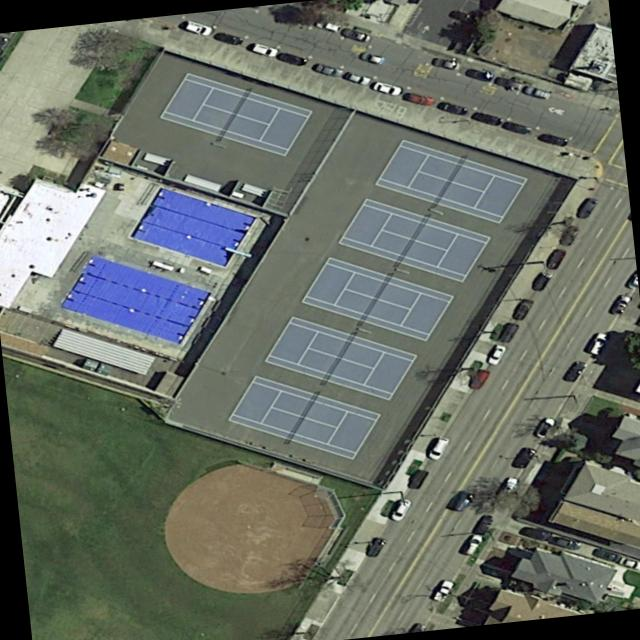large-vehicle: (495, 475, 521, 500), (531, 267, 556, 291), (512, 296, 537, 320), (513, 445, 538, 469), (523, 525, 557, 542), (497, 319, 521, 343), (212, 29, 245, 46), (471, 109, 504, 126), (576, 195, 600, 218), (544, 246, 568, 269), (559, 222, 582, 245), (467, 368, 491, 390), (464, 65, 495, 82), (406, 91, 436, 108), (454, 489, 477, 511), (501, 117, 532, 133), (364, 536, 387, 557), (539, 129, 571, 144), (440, 100, 470, 115), (408, 467, 429, 488)
small-vehicle: (427, 434, 452, 459), (389, 496, 414, 520), (563, 358, 589, 381), (181, 19, 215, 36), (372, 78, 404, 96), (432, 578, 456, 602), (462, 531, 486, 555), (474, 512, 498, 535), (311, 61, 345, 77), (587, 331, 610, 354), (553, 533, 584, 550), (535, 415, 558, 437), (590, 544, 619, 561), (610, 293, 633, 314), (431, 54, 462, 69), (278, 51, 309, 66), (342, 26, 371, 42), (486, 343, 508, 364), (251, 41, 280, 56), (313, 17, 343, 31), (524, 83, 552, 98), (346, 70, 371, 85), (359, 50, 385, 64), (618, 554, 640, 569)
